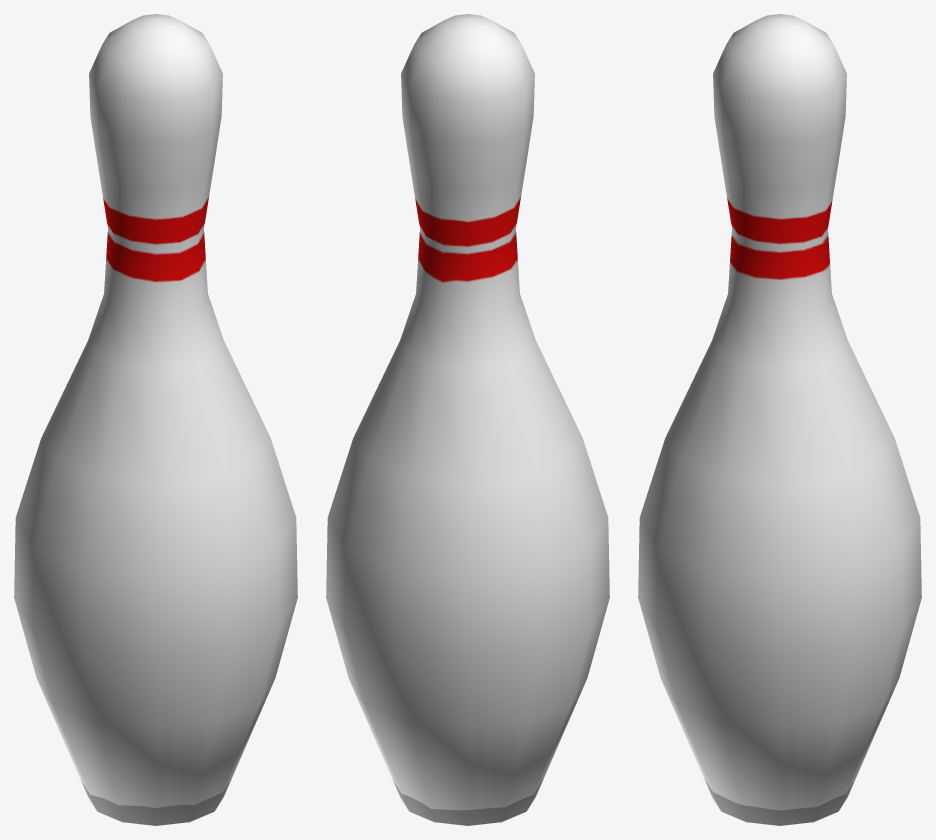
Rendered from pin.FBX.
3 views of the same model, side by side, from view 1: azimuth 30°, elevation 25°; view 2: azimuth 150°, elevation 25°; view 3: azimuth 270°, elevation 25° (orthographic).
Parts seen in each view (by area): view 1: pin; view 2: pin; view 3: pin.
Part boxes in pixels (x1=…): pin: x1=14, y1=14, x2=297, y2=825; pin: x1=326, y1=14, x2=609, y2=825; pin: x1=638, y1=14, x2=921, y2=825.
Bounding box in the file's own units: 15.58 × 47.14 × 15.58.
Materials: 1 (1 with a texture image).
